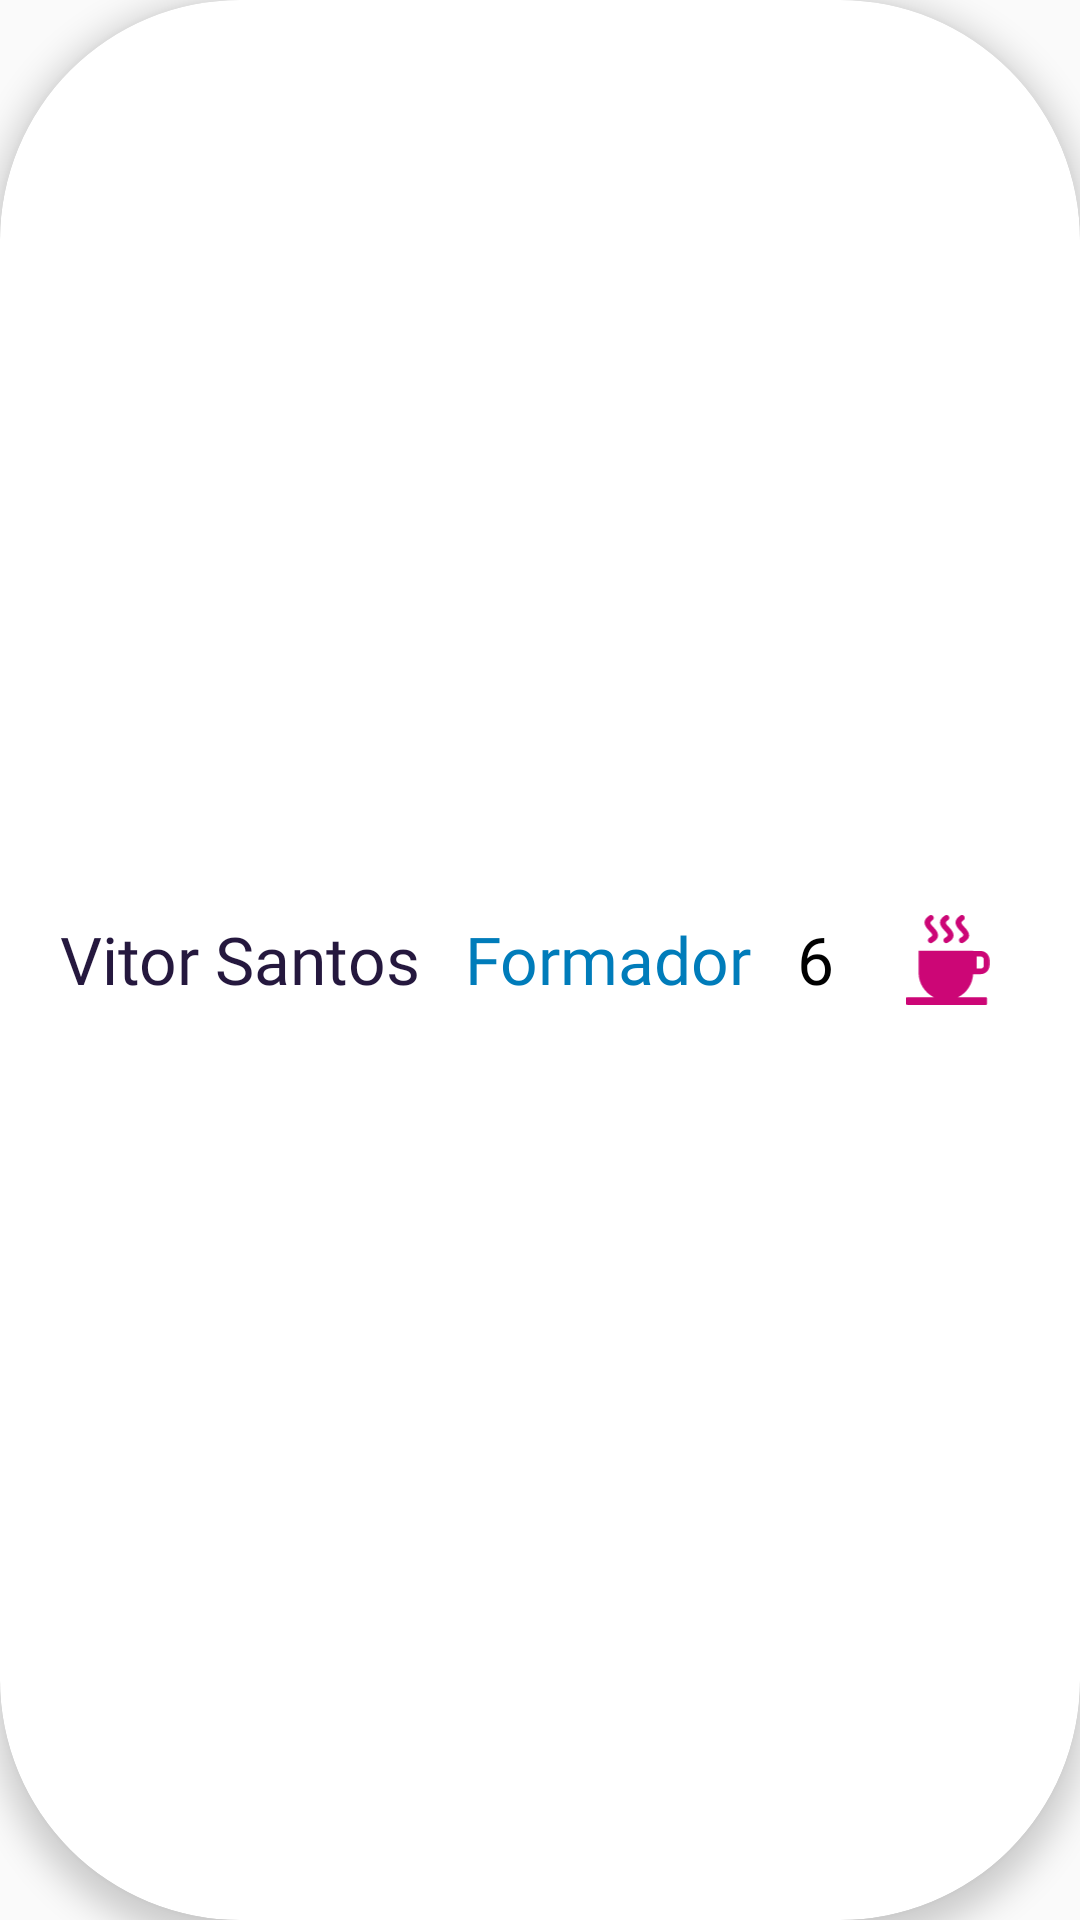

Icons on this 1080w x 1920h Android screen, each with its box as BBox(x1, y1, x2, y2):
coffee: BBox(906, 915, 990, 1005)
